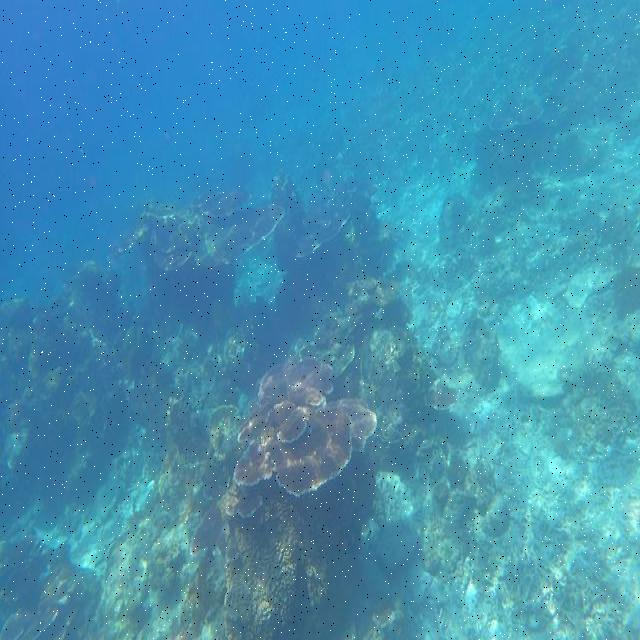aquatic plants: (235, 359, 376, 495)
reefs: (193, 271, 465, 628), (3, 263, 156, 501), (136, 193, 282, 265), (0, 532, 97, 637)
